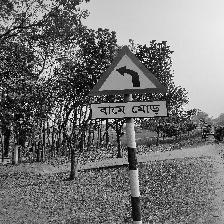Left-Turn: (87, 46, 170, 122)
